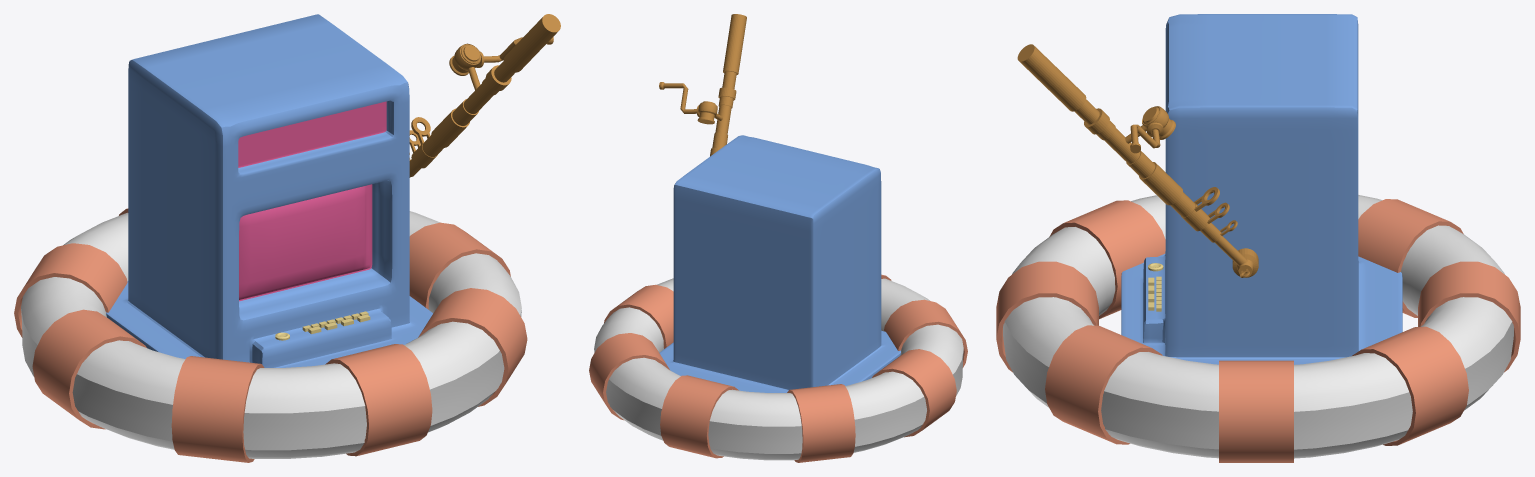
Rendered from Gamble.fbx.
The picture shows the model from 3 angles, left to right: view 1: azimuth 30°, elevation 25°; view 2: azimuth 150°, elevation 25°; view 3: azimuth 270°, elevation 25°; orthographic projection. The views are drawn at different scales.
Visible parts, largest first — view 1: gamble, Torus001.006, Tube013.015 Remeshed.007; view 2: gamble, Torus001.006, Tube013.015 Remeshed.007; view 3: Torus001.006, gamble, Tube013.015 Remeshed.007, Tube013.015 Remeshed.005.
Boxes of the visible parts, x1,y1,x2,y2 form: gamble: (106, 14, 432, 367); Torus001.006: (14, 208, 527, 462); Tube013.015 Remeshed.007: (409, 14, 560, 177); gamble: (659, 135, 900, 392); Torus001.006: (589, 274, 967, 462); Tube013.015 Remeshed.007: (659, 14, 746, 156); Torus001.006: (996, 195, 1520, 462); gamble: (1121, 14, 1402, 364); Tube013.015 Remeshed.007: (1017, 44, 1247, 265); Tube013.015 Remeshed.005: (1232, 248, 1258, 277).
Bounding box in the file's own units: 511 × 435 × 510.
